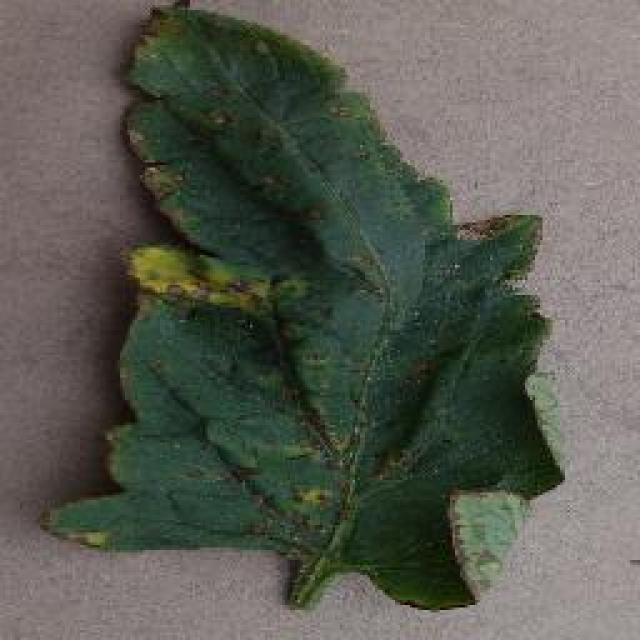Tomato bacterial spot leaf: (42, 0, 576, 610)
